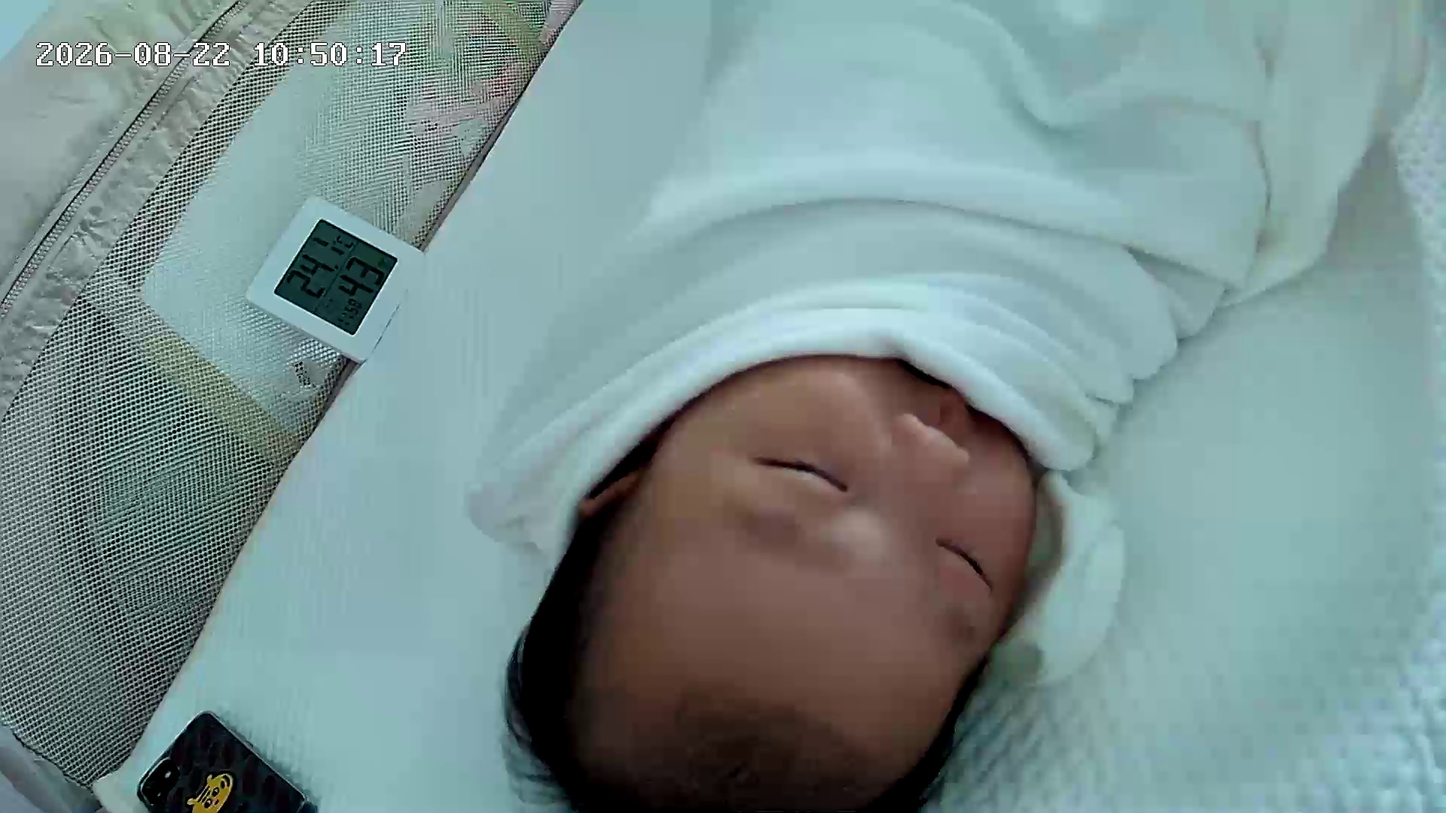baby: (472, 0, 1279, 812)
baby_face: (494, 353, 1074, 813)
